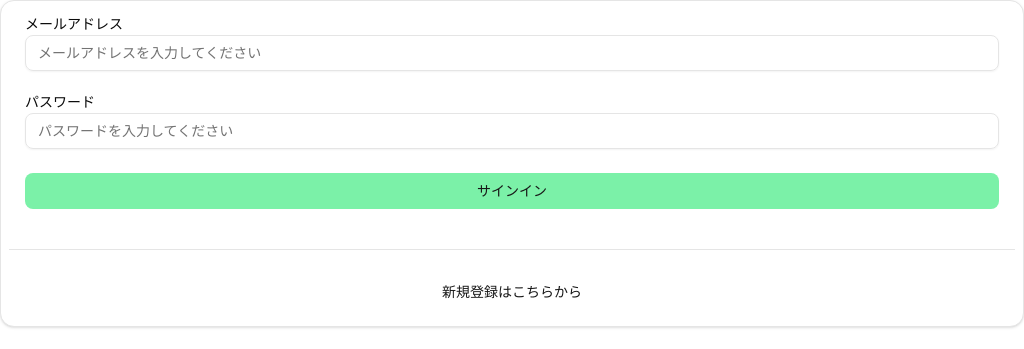
AuthForm › 空で送信を試みる
The width and height of the screenshot is (1024, 349).
What coordinates should you click on to do the following:
click the button "サインイン"
I would click on:
 (512, 191)
Its box is [25,173,999,209].
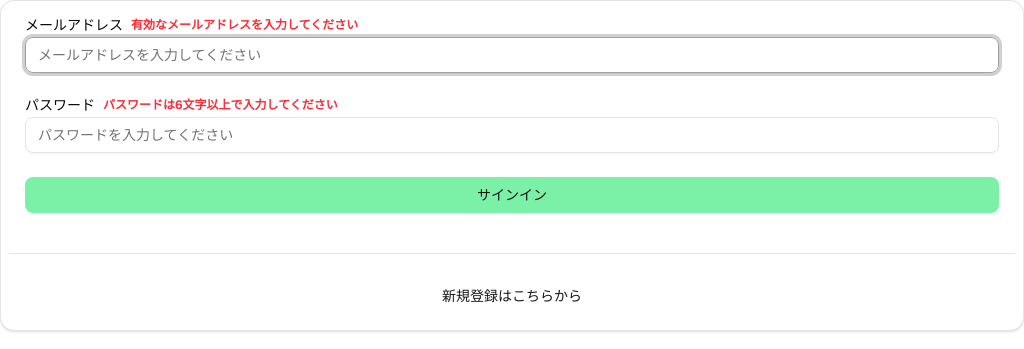
Expected: the text "有効なメールアドレスを入力してください" is shown, [131,17,358,33]
Expected: the text "パスワードは6文字以上で入力してください" is shown, [103,97,338,113]
